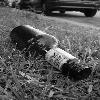beer: (8, 24, 90, 82)
